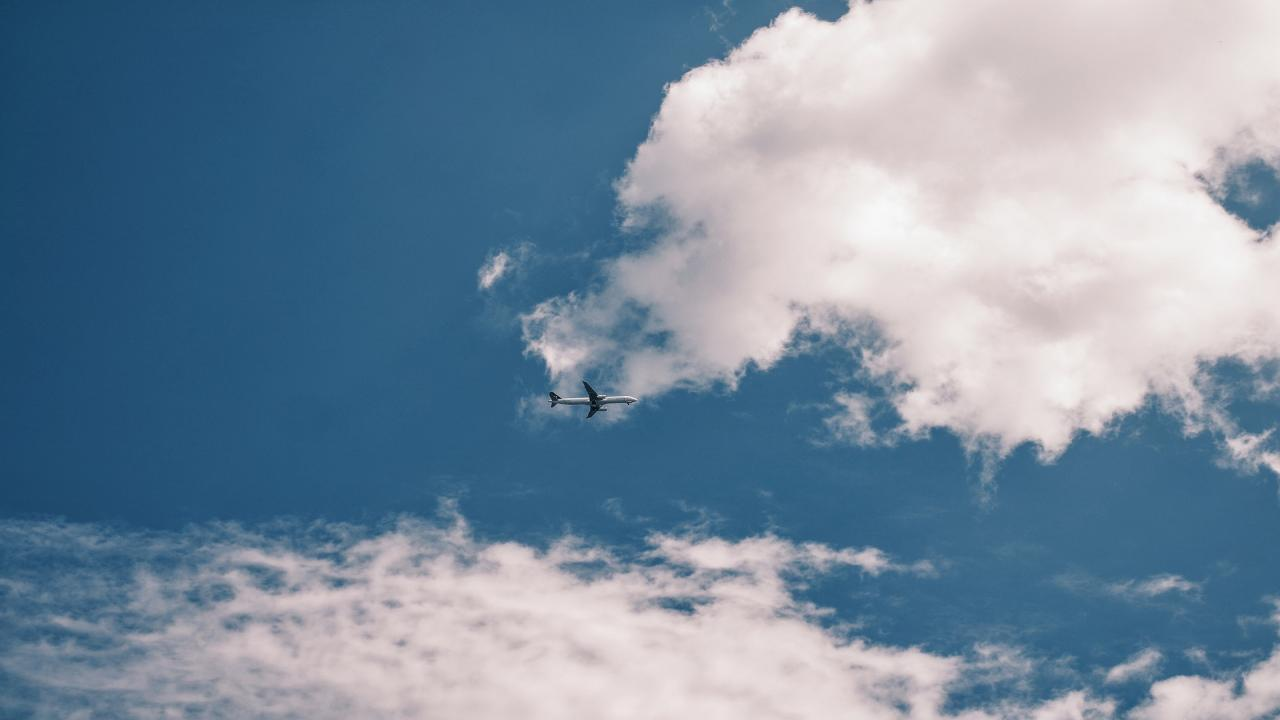Airplane: (538, 371, 648, 427)
